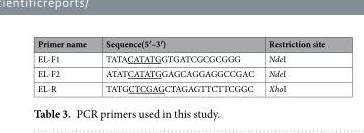table: (36, 37, 324, 94)
table column: (95, 37, 260, 94), (260, 37, 324, 94), (36, 37, 95, 94)
table column header: (36, 37, 324, 50)
table row: (36, 50, 324, 65), (36, 65, 324, 80), (36, 80, 324, 94), (36, 37, 324, 50)
